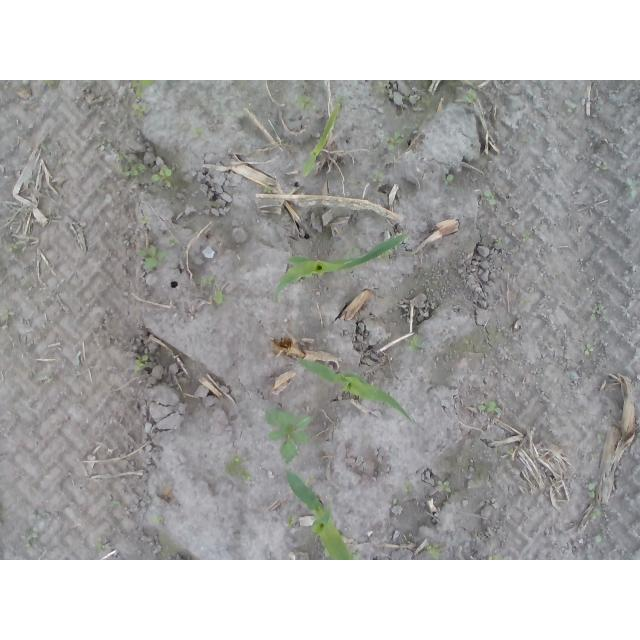Maize: (273, 230, 407, 302), (298, 359, 415, 422), (285, 468, 352, 560), (304, 105, 341, 176)
Weeds: (263, 407, 313, 466), (136, 245, 171, 272), (383, 127, 417, 154), (117, 149, 145, 179), (224, 453, 253, 481), (151, 164, 174, 188), (294, 94, 319, 114), (129, 81, 155, 100), (22, 527, 39, 554), (624, 175, 640, 202), (479, 399, 502, 415), (130, 103, 147, 121), (406, 335, 422, 354), (133, 352, 148, 372), (7, 240, 22, 257), (1, 304, 16, 321), (482, 191, 499, 206), (590, 303, 604, 321), (210, 290, 226, 305), (427, 544, 442, 560), (463, 88, 477, 105), (371, 166, 385, 182), (437, 479, 452, 493), (588, 479, 599, 498), (592, 160, 608, 172), (402, 531, 415, 545), (374, 80, 387, 94), (335, 95, 353, 105), (566, 98, 577, 114), (592, 535, 608, 546), (198, 275, 215, 285), (401, 481, 414, 494), (193, 127, 207, 139), (583, 343, 594, 357), (344, 247, 361, 256), (137, 214, 152, 224), (108, 496, 120, 508), (287, 514, 297, 528), (596, 432, 604, 449), (443, 175, 455, 186), (95, 542, 105, 555), (96, 143, 112, 151), (590, 510, 606, 518), (485, 553, 503, 560), (151, 514, 162, 525), (352, 552, 364, 561), (521, 232, 532, 241), (46, 80, 57, 88), (167, 238, 177, 246), (264, 189, 273, 196), (323, 547, 329, 557), (308, 475, 317, 481)
